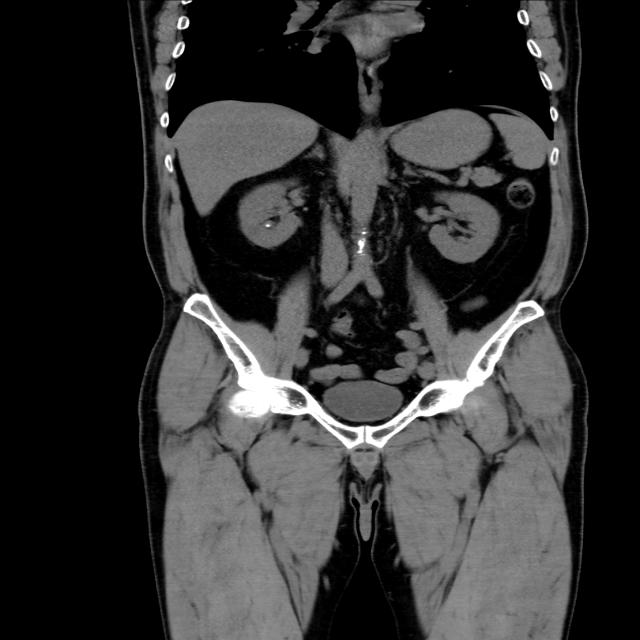kidneystone: (264, 222, 272, 228)
